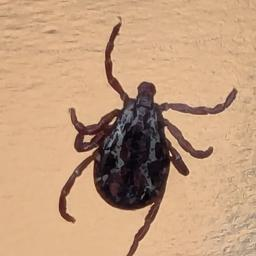Dermacentor variabilis: (59, 22, 237, 253)
